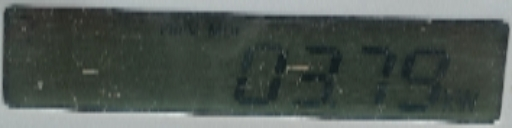0: (228, 30, 288, 115)
3: (294, 35, 344, 109)
7: (356, 35, 395, 111)
9: (396, 36, 453, 120)
d: (328, 95, 343, 107)
